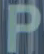Parking: (4, 1, 43, 51)
